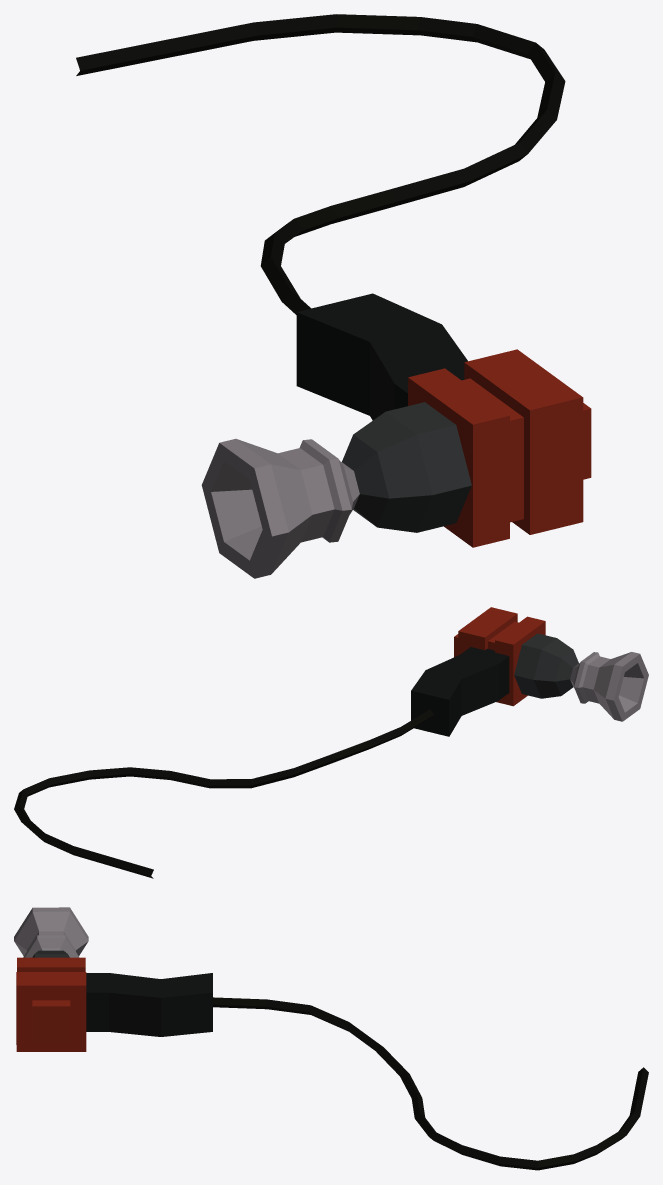
Rendered from ds_air_pump.glb.
The picture shows the model from 3 angles, top to bottom: view 1: azimuth 30°, elevation 25°; view 2: azimuth 150°, elevation 25°; view 3: azimuth 270°, elevation 25°; orthographic projection. The views are drawn at different scales.
Visible parts, largest first — view 1: airgun; view 2: airgun; view 3: airgun.
Part boxes in pixels (x1,y1,x2,y2): airgun: (76,14,591,578); airgun: (14,607,648,878); airgun: (14,907,648,1170).
Size of the model in its own units: 1.04 by 0.17 by 1.4.
Materials: 1 (1 with a texture image).
